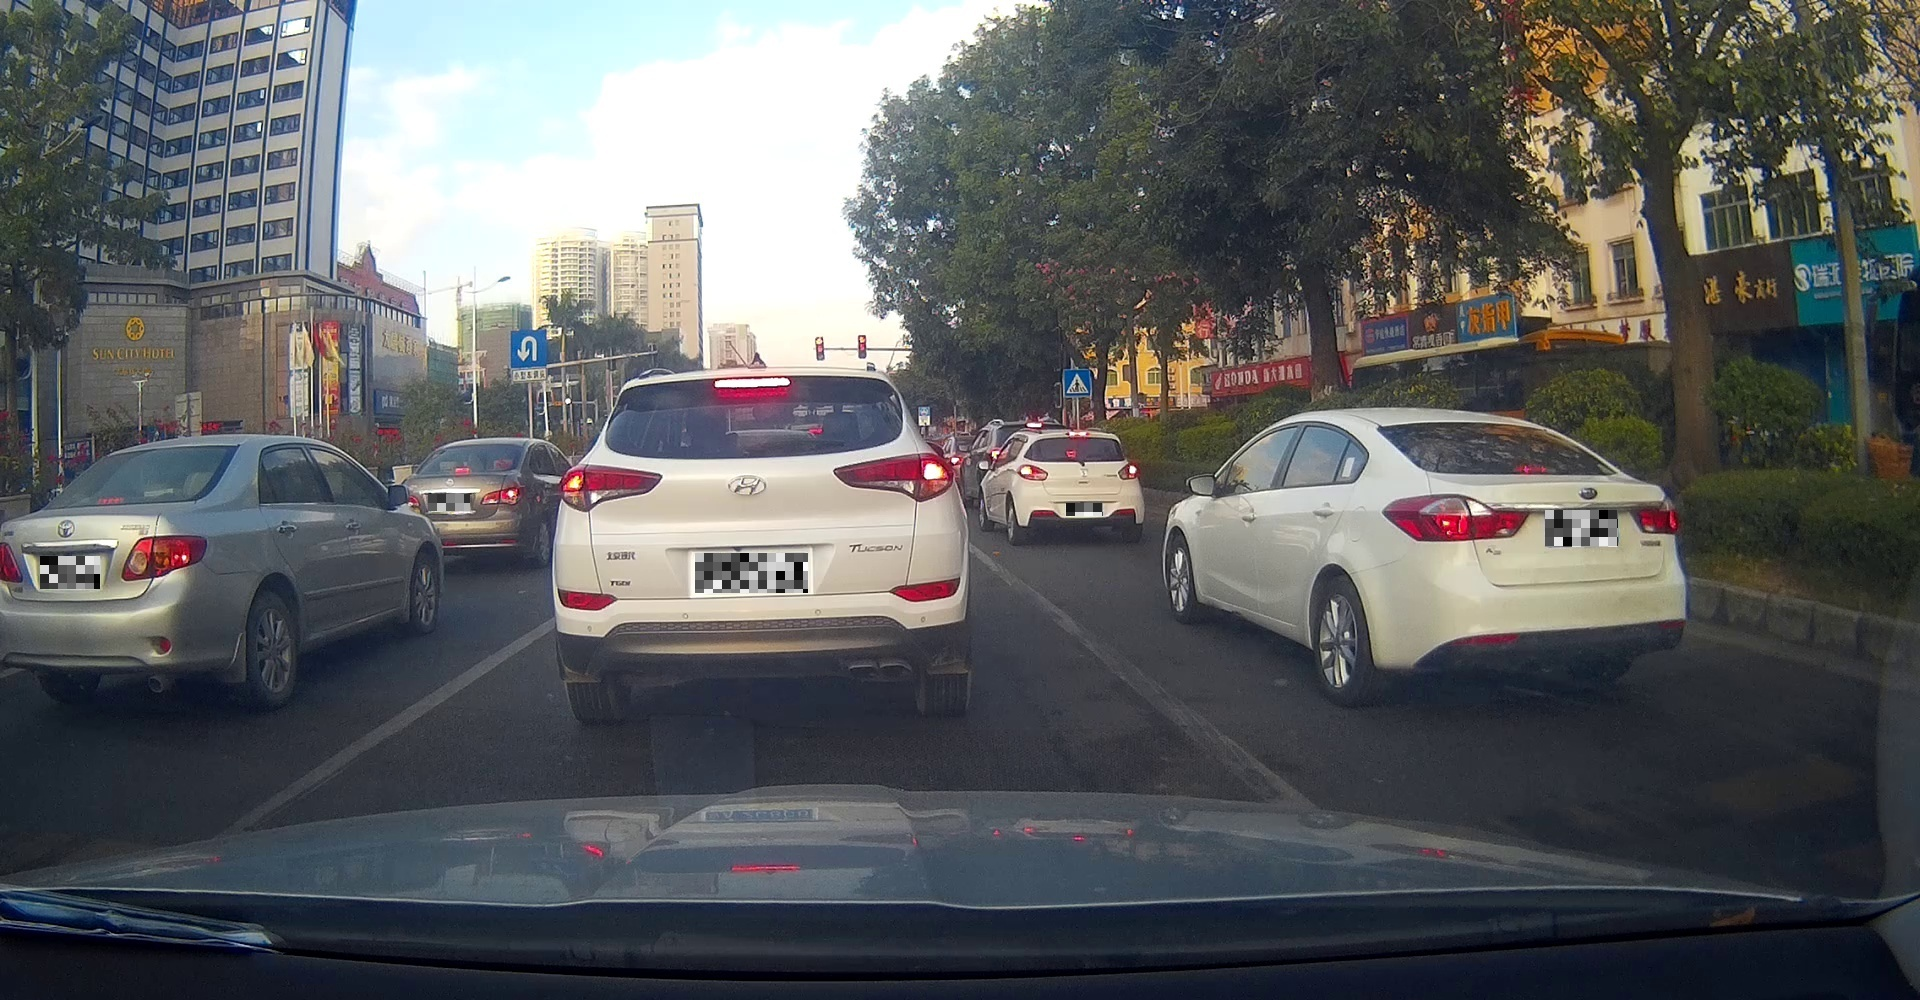L_light: (1380, 492, 1531, 543), (555, 463, 663, 513), (0, 541, 25, 584), (399, 494, 422, 516), (1018, 463, 1048, 481)
R_light: (833, 452, 954, 503), (119, 533, 206, 582), (1628, 492, 1679, 534), (479, 484, 522, 505), (1117, 461, 1142, 480)
T_light: (710, 376, 791, 392), (1511, 462, 1549, 475), (95, 495, 127, 506), (1065, 431, 1091, 438), (453, 467, 470, 475)
day-brake: (550, 365, 969, 720), (1011, 431, 1145, 542)
day-no: (1371, 414, 1688, 708), (0, 434, 246, 709)
day-right: (397, 438, 535, 569)
plate_1: (41, 556, 100, 589)
plate_2: (428, 494, 470, 511)
plate_3: (695, 553, 808, 593)
plate_4: (1065, 503, 1103, 516)
plate_5: (1545, 510, 1618, 547)
